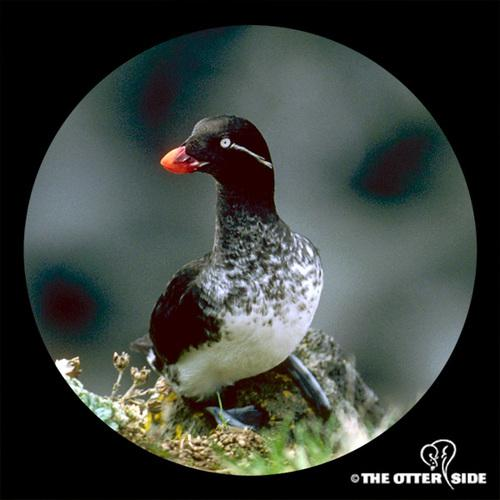007.Parakeet_Auklet: (145, 113, 329, 446)
